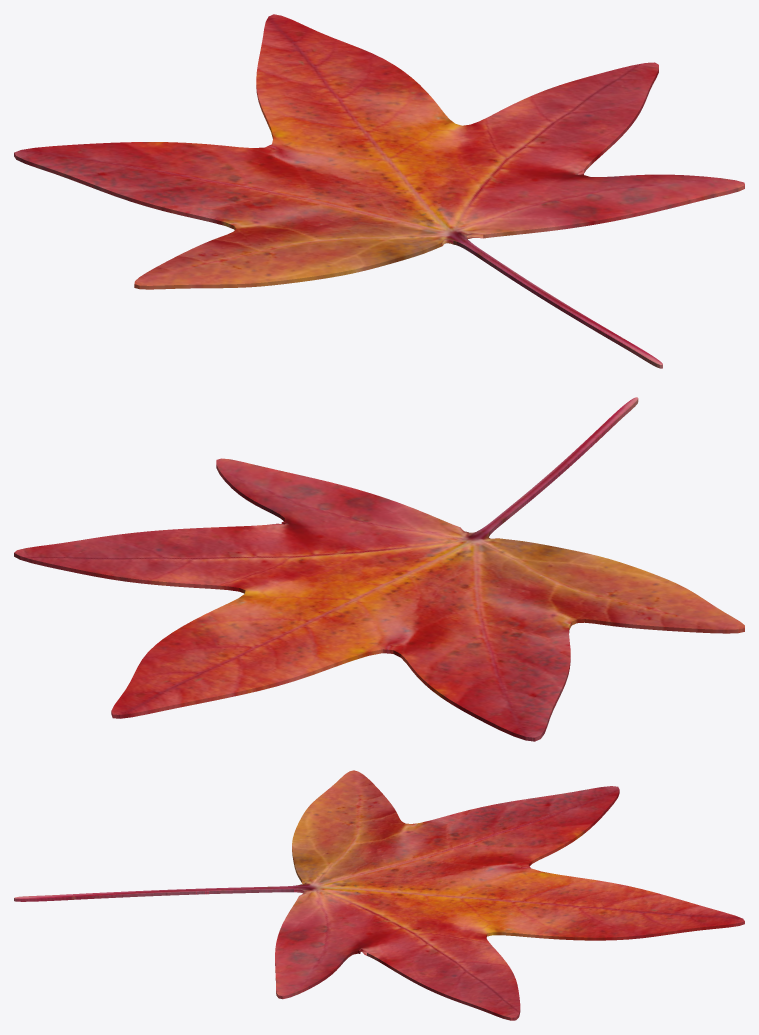
File: leaf_2_atlas.fbx
3 renders of one model, top to bottom at view 1: azimuth 30°, elevation 25°; view 2: azimuth 150°, elevation 25°; view 3: azimuth 270°, elevation 25°, orthographic. The views are drawn at different scales.
Visible parts, largest first — view 1: m_waterDrop_leaf_02; view 2: m_waterDrop_leaf_02; view 3: m_waterDrop_leaf_02.
Part boxes in pixels (bbox=[...]): m_waterDrop_leaf_02: bbox=[14, 14, 744, 368]; m_waterDrop_leaf_02: bbox=[14, 397, 744, 741]; m_waterDrop_leaf_02: bbox=[14, 770, 744, 1020].
Size of the model in its own units: 175 by 2.4 by 222.
